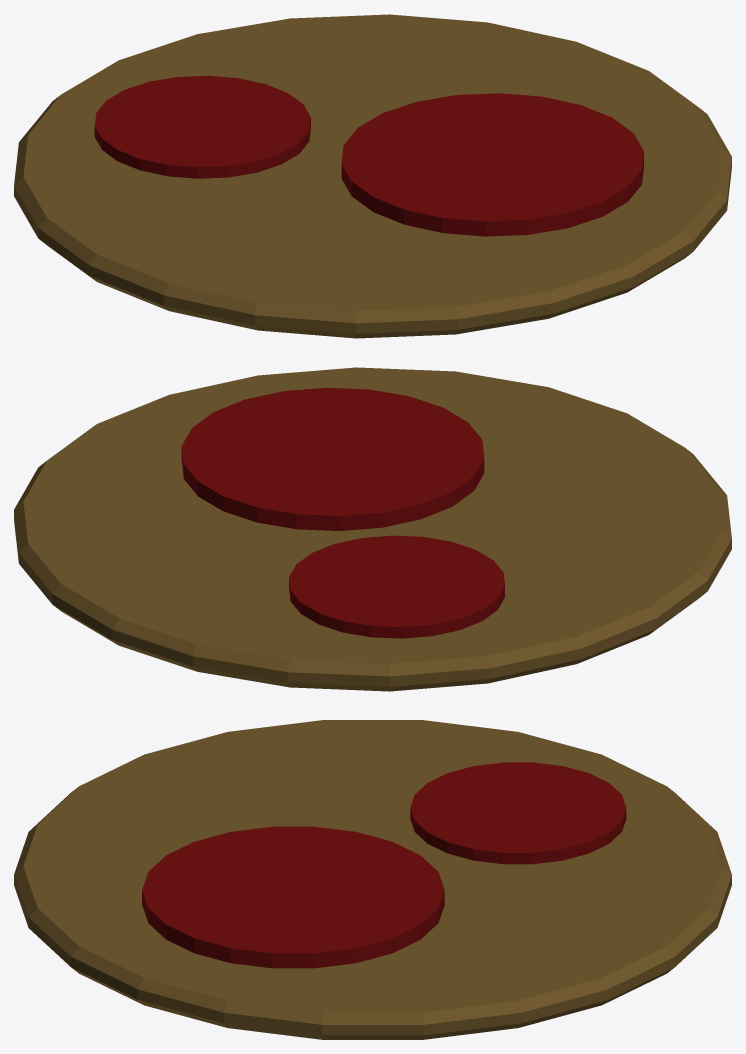
Rendered from wall_pizza1.fbx.
3 views of the same model, one above another, from view 1: azimuth 30°, elevation 25°; view 2: azimuth 150°, elevation 25°; view 3: azimuth 270°, elevation 25° (orthographic).
Visible parts, largest first — view 1: Cylinder, Cylinder.002, Cylinder.001; view 2: Cylinder, Cylinder.002, Cylinder.001; view 3: Cylinder, Cylinder.002, Cylinder.001.
Boxes of the visible parts, bbox=[...] form: Cylinder: bbox=[14, 14, 731, 338]; Cylinder.002: bbox=[341, 93, 643, 236]; Cylinder.001: bbox=[94, 75, 310, 178]; Cylinder: bbox=[14, 367, 731, 691]; Cylinder.002: bbox=[181, 387, 484, 530]; Cylinder.001: bbox=[289, 535, 504, 638]; Cylinder: bbox=[14, 720, 731, 1039]; Cylinder.002: bbox=[142, 826, 444, 968]; Cylinder.001: bbox=[410, 762, 626, 864].
Size of the model in its own units: 305 by 20.11 by 308.
